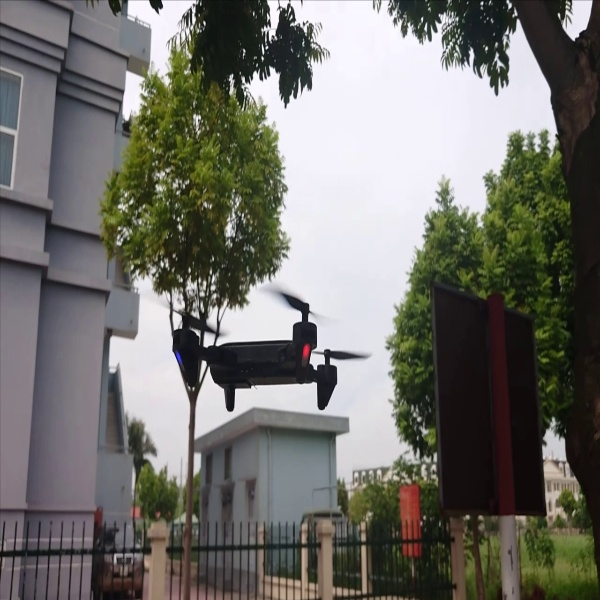drone: (157, 287, 375, 416)
